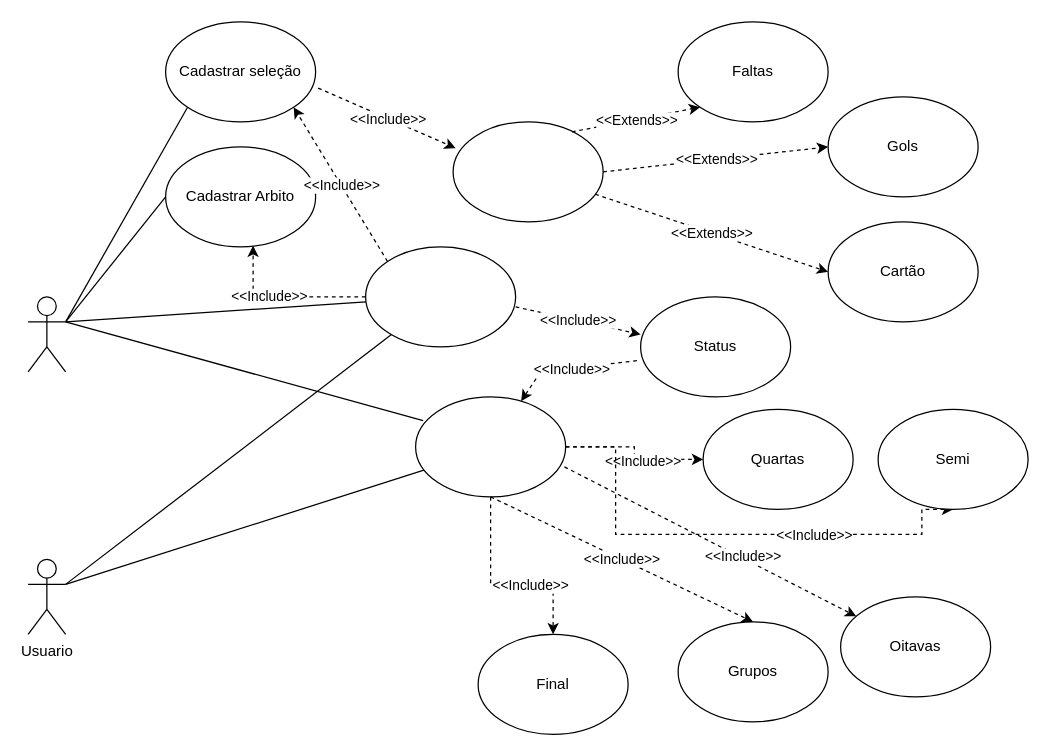
This 1050x756 diagram has some shape labels left out. The shapes that lost their labels are listed below. From the top down, each one's centre as x and y in pixels, then its label:
At point (527, 171): "Cadastrar jogadores".
At point (440, 296): "Partida".
At point (46, 334): "FIFA".
At point (490, 446): "Tabela".
